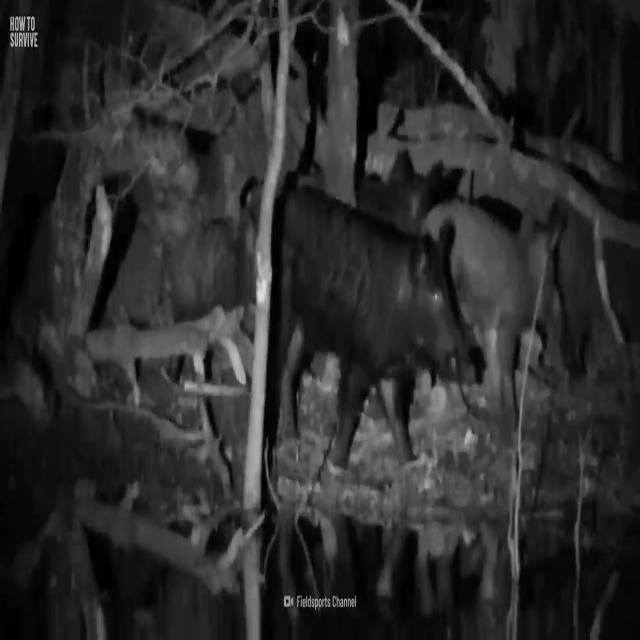pig: (264, 183, 488, 460)
